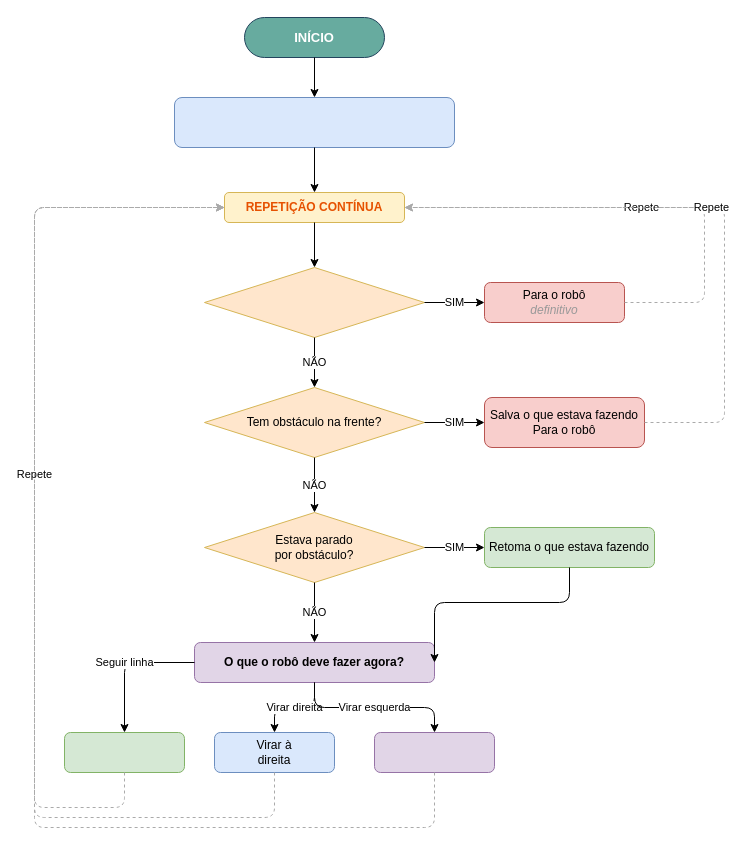
The diagram is 750 pixels wide and 853 high, and some of its shapes have lost their labels. The shapes that lost their labels are listed below. From the top down, each one's box as (x1, y1, x2, y2) in pixels, then its label:
(174, 96, 454, 148): Configuração inicial Ativa pinos, aguarda 3s, liga sensores
(204, 266, 424, 338): Robô chegou ao destino?
(64, 732, 184, 772): Seguir a linha
(374, 732, 494, 772): Virar à esquerda
